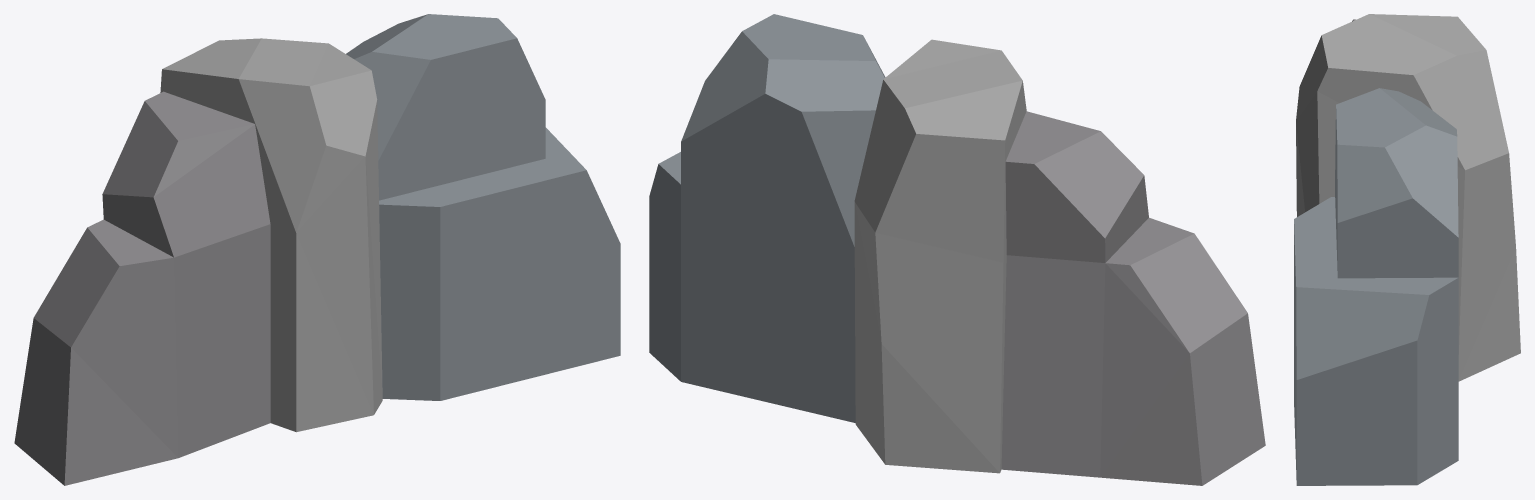
File: Rock_Wall_01 2.fbx
3 views of the same model, side by side, from view 1: azimuth 30°, elevation 25°; view 2: azimuth 150°, elevation 25°; view 3: azimuth 270°, elevation 25° (orthographic). The views are drawn at different scales.
Parts seen in each view (by area): view 1: Rock_Wall_01; view 2: Rock_Wall_01; view 3: Rock_Wall_01.
Part boxes in pixels (x1,y1,x2,y2): Rock_Wall_01: [14, 14, 620, 485]; Rock_Wall_01: [649, 14, 1265, 485]; Rock_Wall_01: [1294, 14, 1520, 485].
Bounding box in the file's own units: 521 × 301 × 197.
